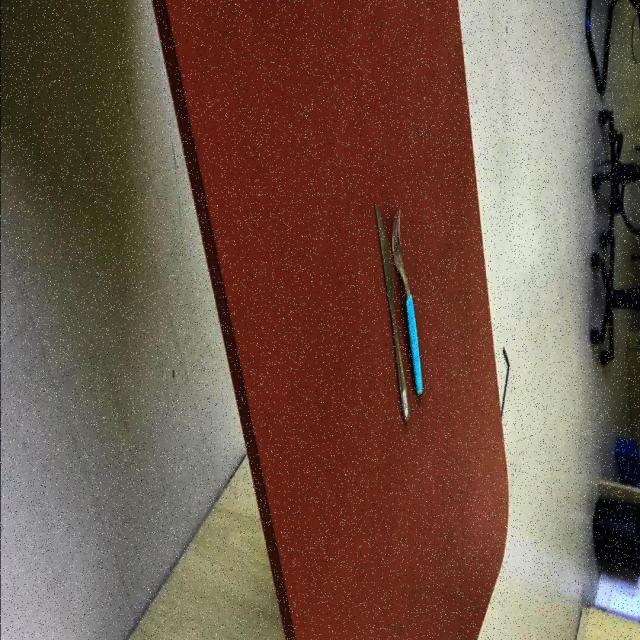Fork: (391, 206, 424, 400)
Knife: (374, 205, 410, 426)
